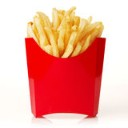frenchfries: (26, 4, 104, 55)
